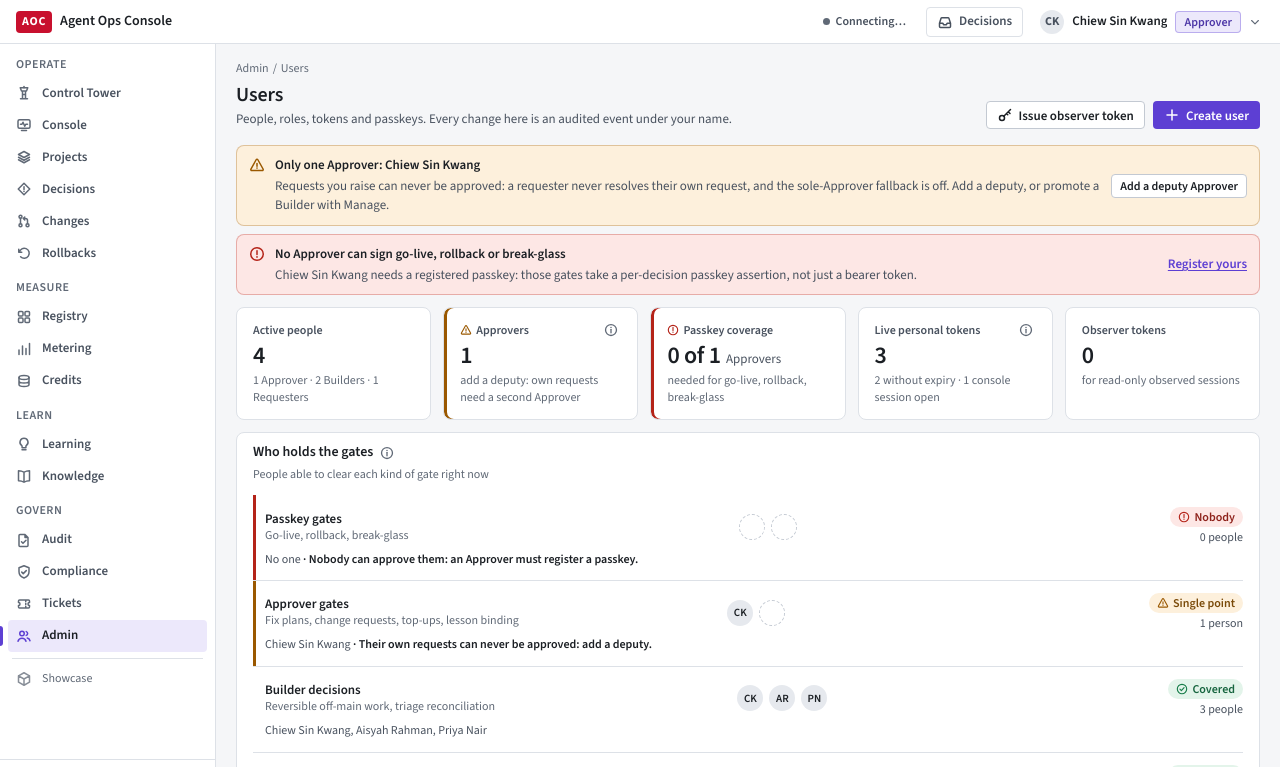
Admin › Users page › makes a sole Approver visible and offers to add a deputy
Check: the heading "Users" is shown, box [236,81,283,108]
Check: the text "Only one Approver: Chiew Sin Kwang" shows "Requests you raise can never be approved", box [236,145,1260,226]
What coordinates should you click on to do the following:
click the button "Add a deputy Approver"
I would click on:
 (1179, 186)
Its box is [1111,174,1247,198].
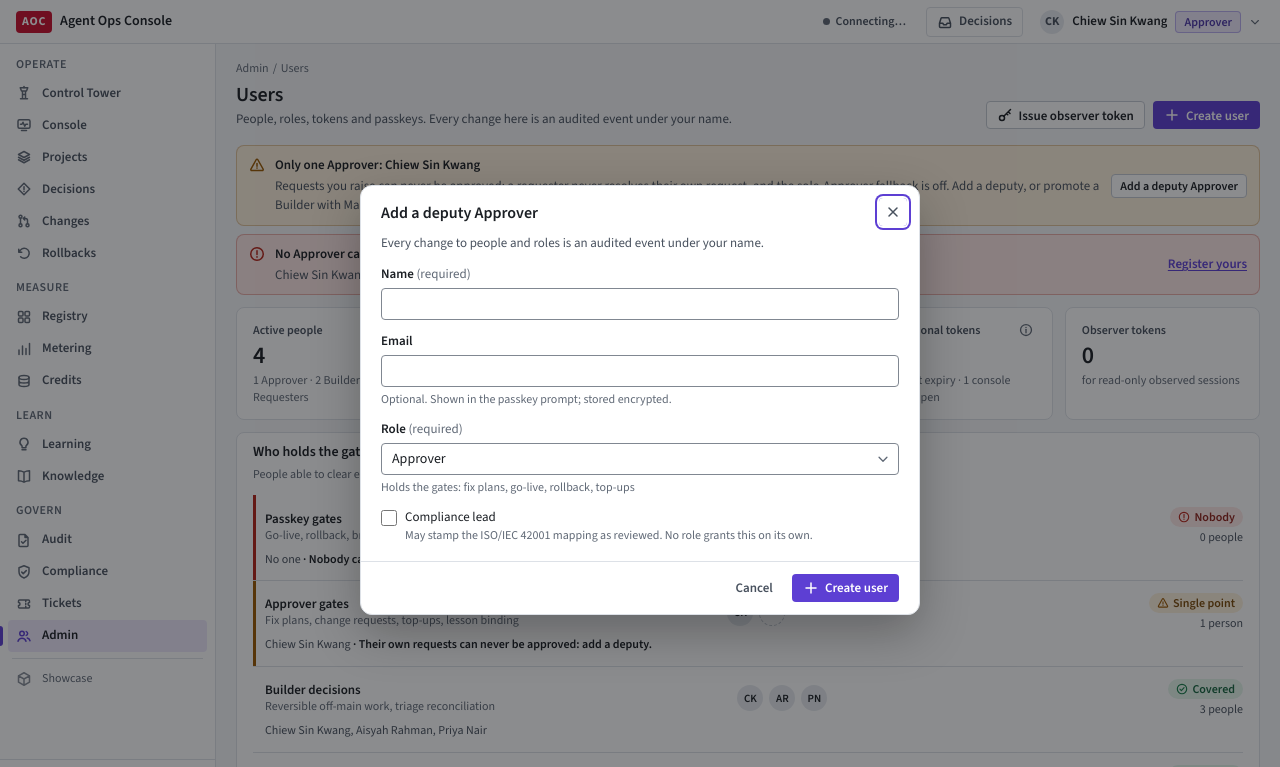
Check: the dropdown labelled "Role (required)" shows "Approver", box [381,443,899,475]
